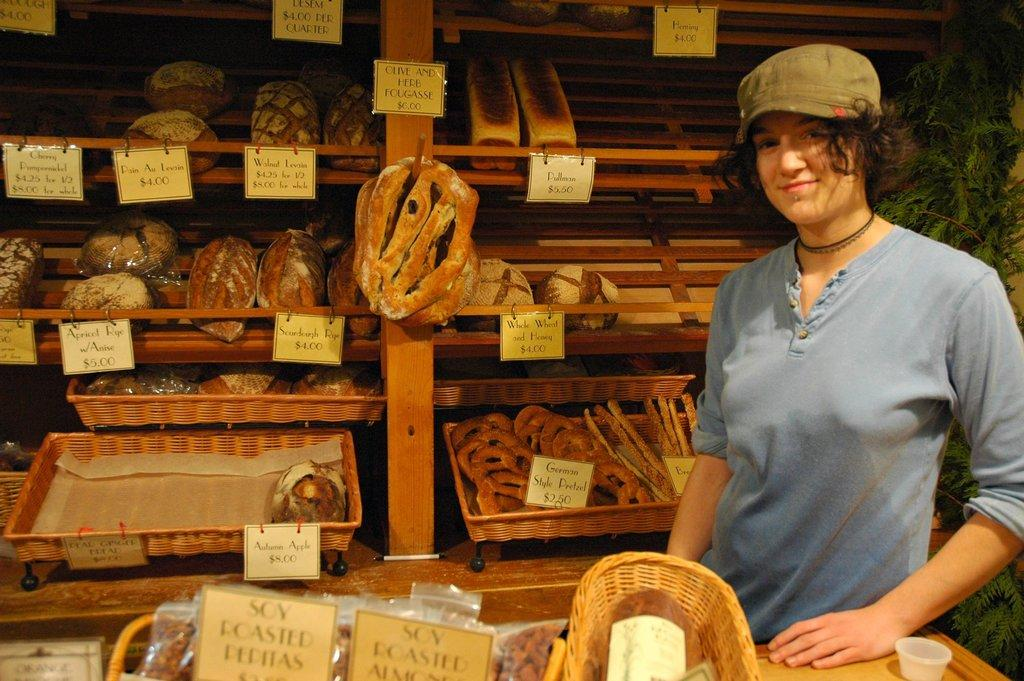Hat: (738, 40, 886, 140)
